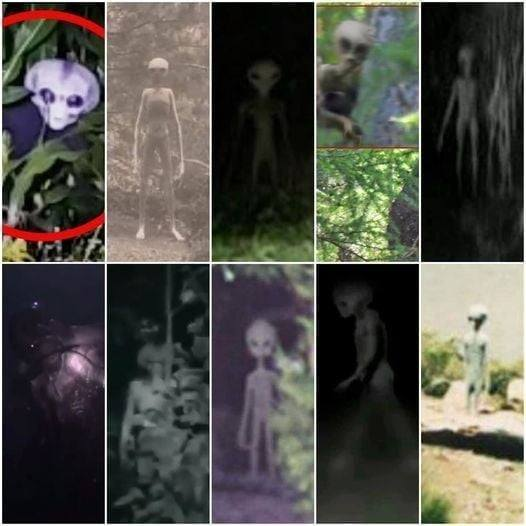aliens: (20, 51, 104, 151), (3, 300, 79, 381), (329, 16, 378, 74), (329, 278, 379, 332), (238, 316, 282, 374), (131, 336, 180, 385), (240, 59, 283, 104), (462, 305, 491, 349), (140, 56, 172, 90), (453, 44, 477, 78)
